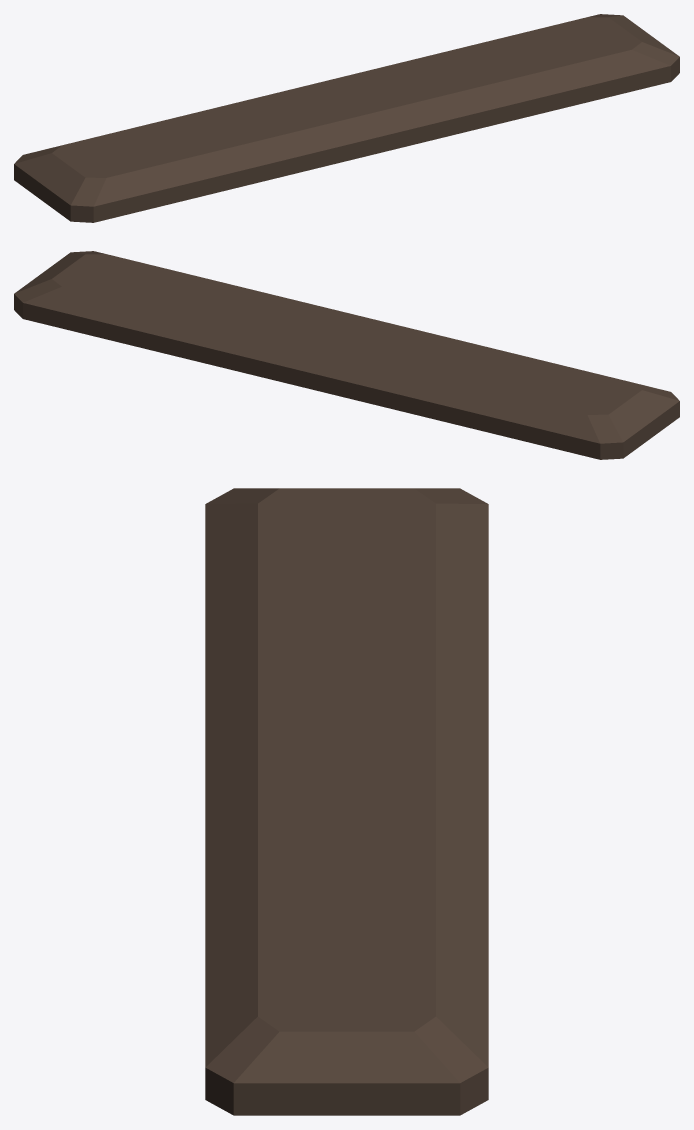
File: OptionsButton.fbx
The picture shows the model from 3 angles, top to bottom: view 1: azimuth 30°, elevation 25°; view 2: azimuth 150°, elevation 25°; view 3: azimuth 270°, elevation 25°; orthographic projection. The views are drawn at different scales.
Parts seen in each view (by area): view 1: button.003; view 2: button.003; view 3: button.003.
Part boxes in pixels (bbox=[...]): button.003: bbox=[14, 14, 679, 222]; button.003: bbox=[14, 251, 679, 459]; button.003: bbox=[205, 488, 488, 1115].
Bounding box in the file's own units: 1097 × 50 × 221.
